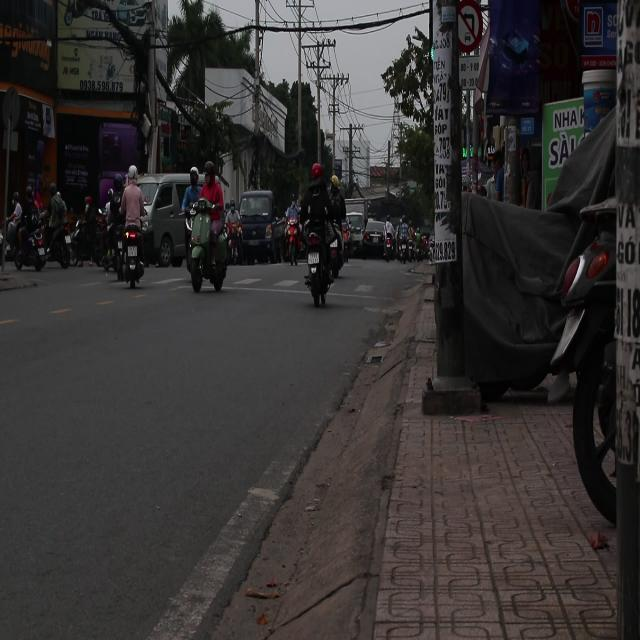car: (138, 174, 198, 269), (238, 190, 278, 261), (346, 200, 368, 258), (363, 221, 388, 259)
motorbike: (182, 204, 227, 295), (302, 224, 336, 308), (115, 224, 148, 288), (11, 218, 47, 272), (223, 199, 245, 268), (42, 227, 76, 270), (396, 218, 412, 262)
